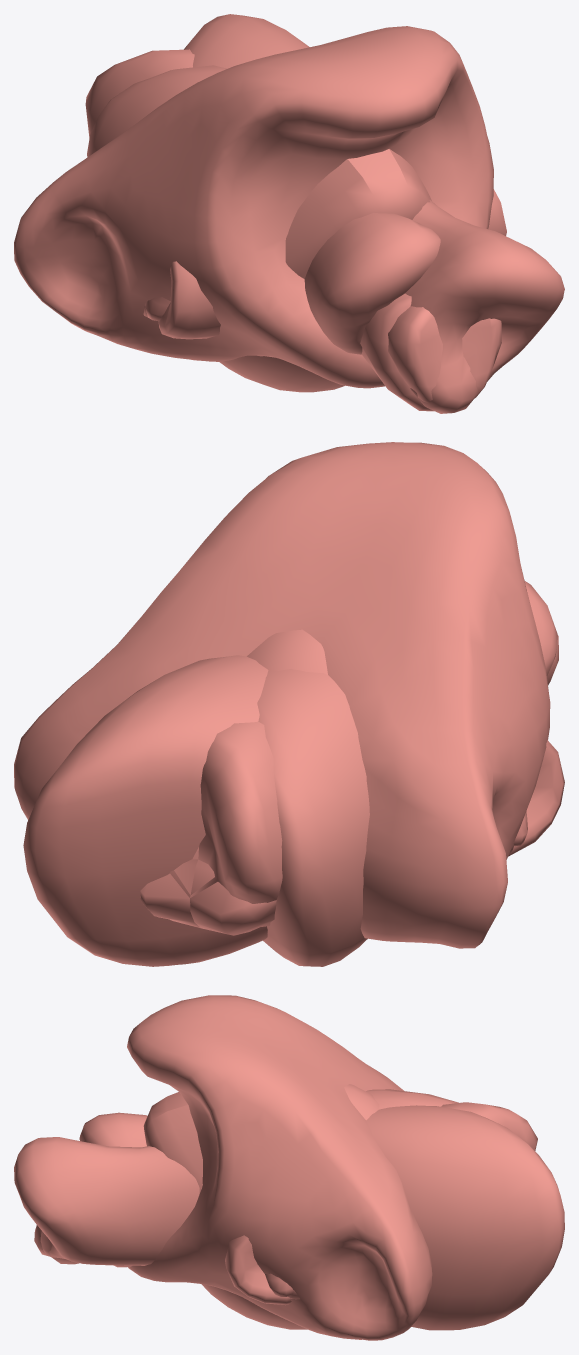
The model's file is bones.fbx.
The picture shows the model from 3 angles, top to bottom: view 1: azimuth 30°, elevation 25°; view 2: azimuth 150°, elevation 25°; view 3: azimuth 270°, elevation 25°; orthographic projection. The views are drawn at different scales.
Visible parts, largest first — view 1: chest, right_upper_leg, left_upper_leg, head, right_under_leg, left_under_leg, left_upper_arm, right_upper_arm; view 2: chest, left_upper_leg, right_upper_leg, right_under_leg, left_under_leg, head, left_upper_arm; view 3: chest, left_upper_leg, right_upper_leg, head, right_upper_arm, right_under_leg.
Boxes of the visible parts, left/top/right/bottom form: chest: left=14, top=26, right=493, bottom=388; right_upper_leg: left=87, top=65, right=564, bottom=413; left_upper_leg: left=184, top=14, right=440, bottom=354; head: left=219, top=149, right=431, bottom=392; right_under_leg: left=85, top=49, right=442, bottom=403; left_under_leg: left=360, top=293, right=501, bottom=411; left_upper_arm: left=158, top=261, right=220, bottom=339; right_upper_arm: left=143, top=189, right=506, bottom=317; chest: left=14, top=442, right=550, bottom=948; left_upper_leg: left=23, top=581, right=557, bottom=966; right_upper_leg: left=257, top=669, right=369, bottom=966; right_under_leg: left=140, top=635, right=558, bottom=928; left_under_leg: left=170, top=847, right=276, bottom=935; head: left=247, top=629, right=327, bottom=674; left_upper_arm: left=508, top=740, right=564, bottom=856; chest: left=127, top=995, right=432, bottom=1340; left_upper_leg: left=79, top=1105, right=564, bottom=1330; right_upper_leg: left=14, top=1089, right=458, bottom=1265; head: left=143, top=1084, right=379, bottom=1329; right_upper_arm: left=225, top=1235, right=291, bottom=1305; right_under_leg: left=51, top=1102, right=537, bottom=1264.
Bounding box in the file's own units: 3857 × 3124 × 5152.
